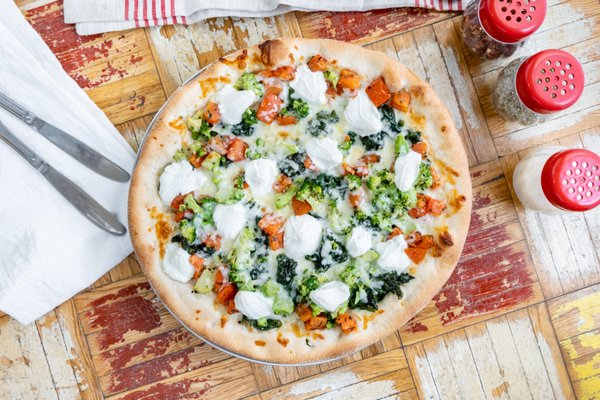curry: (233, 72, 264, 92)
sandwich: (0, 101, 129, 236)
